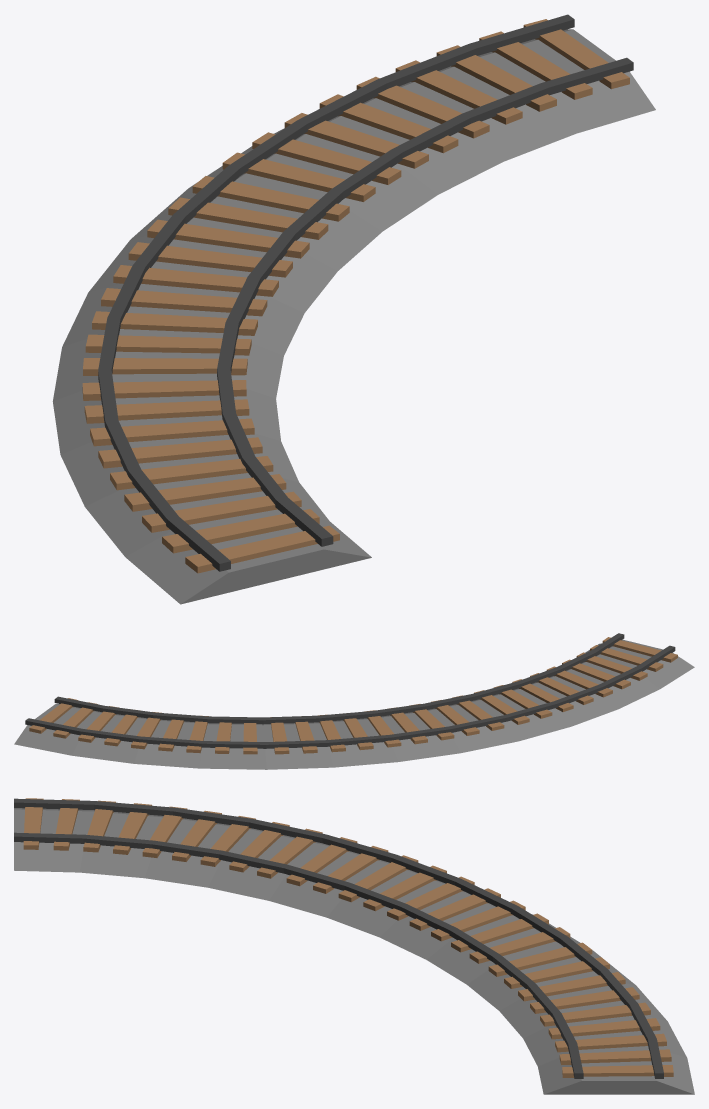
File: west_huoche06.FBX
The picture shows the model from 3 angles, top to bottom: view 1: azimuth 30°, elevation 25°; view 2: azimuth 150°, elevation 25°; view 3: azimuth 270°, elevation 25°; orthographic projection. The views are drawn at different scales.
Parts seen in each view (by area): view 1: west_huoche06; view 2: west_huoche06; view 3: west_huoche06.
Part boxes in pixels (x1,y1,x2,y2): west_huoche06: (52,14,655,604); west_huoche06: (14,633,694,769); west_huoche06: (14,798,694,1094).
Bounding box in the file's own units: 5507 × 189 × 5507.
